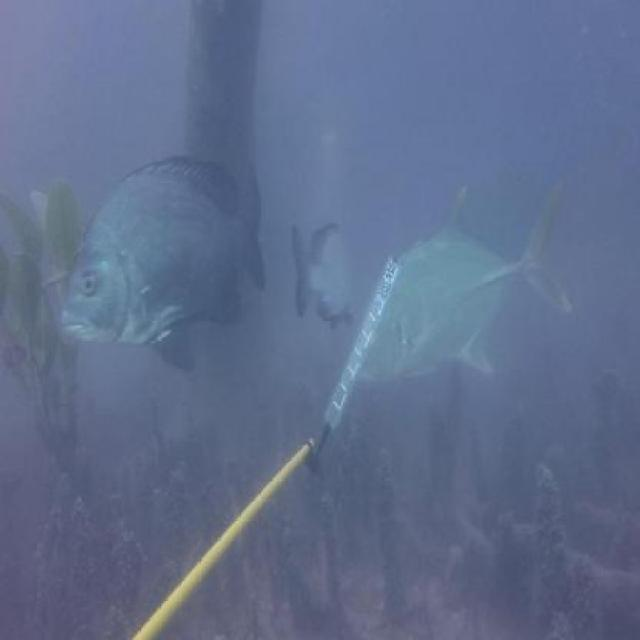Caranx: (358, 174, 573, 386)
acanthopagrus_palmaris: (59, 151, 268, 375), (291, 215, 355, 336)
